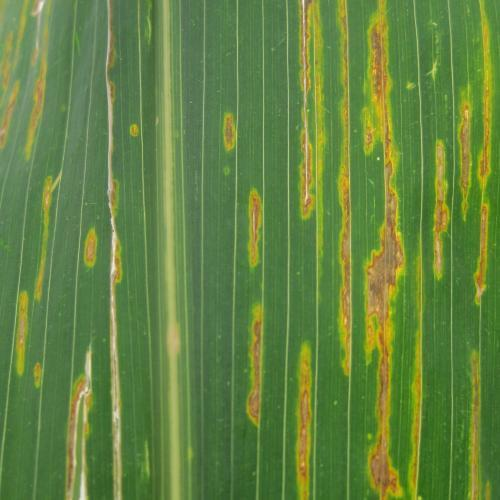Corn leaf blight: (1, 1, 484, 500)
